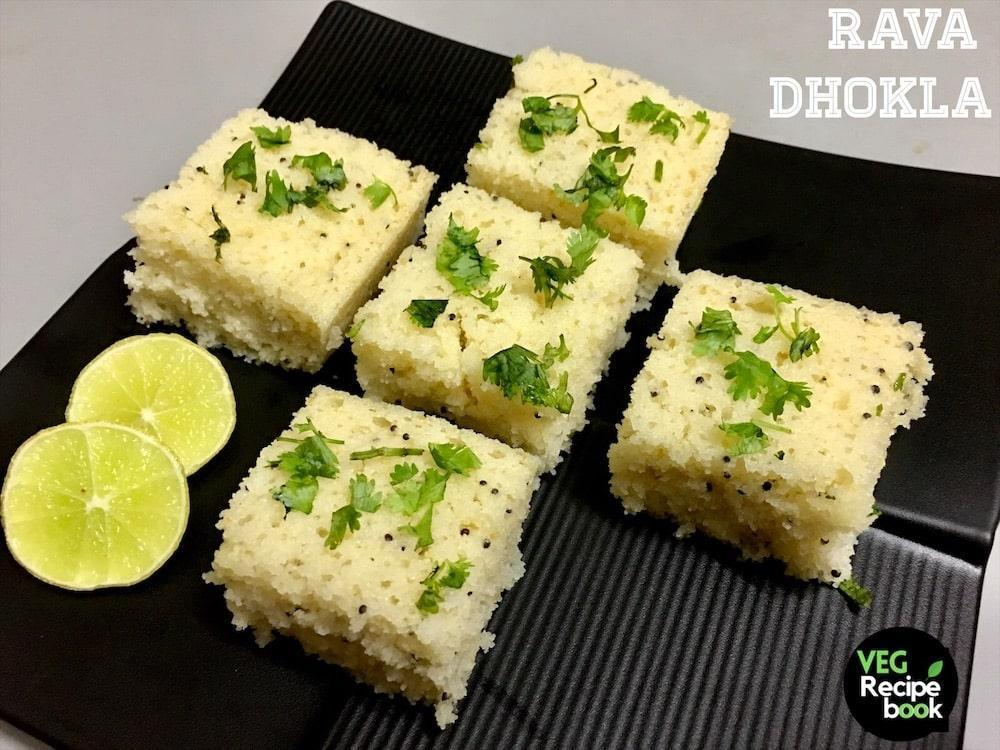dhokla: (234, 27, 942, 696), (98, 95, 394, 363)
